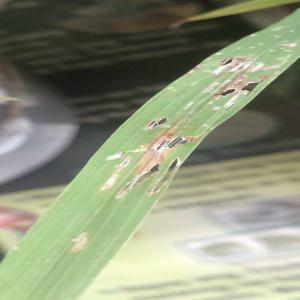1 RiceBlast: (150, 158, 196, 198), (141, 105, 175, 138), (238, 75, 269, 109), (66, 233, 98, 262), (106, 144, 136, 169), (211, 78, 240, 101), (220, 51, 249, 72)
